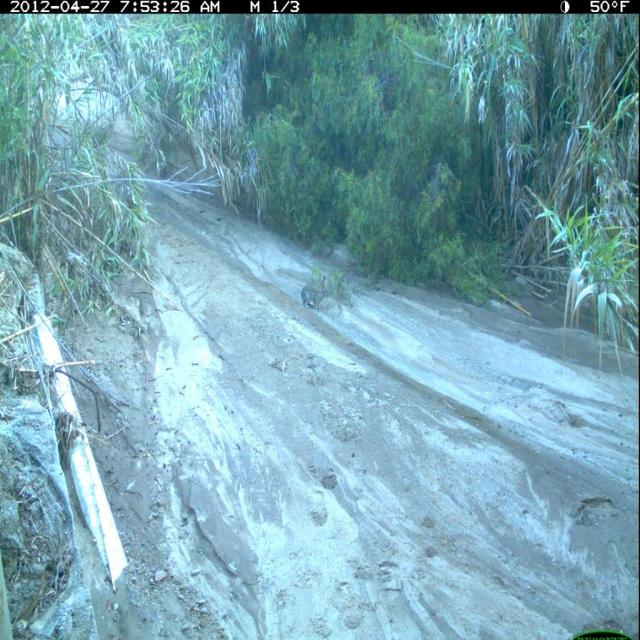rabbit: (300, 271, 330, 314)
